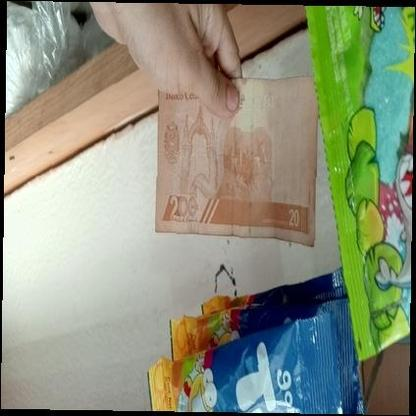vef_back: (154, 75, 316, 246)
